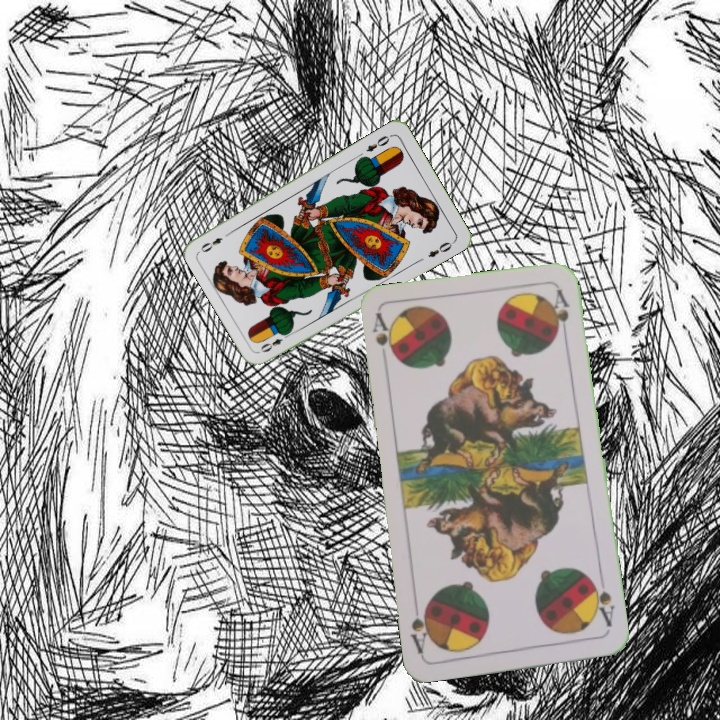EO: (256, 329, 293, 355), (362, 130, 395, 154)
SA: (586, 574, 618, 630), (368, 310, 397, 360)
